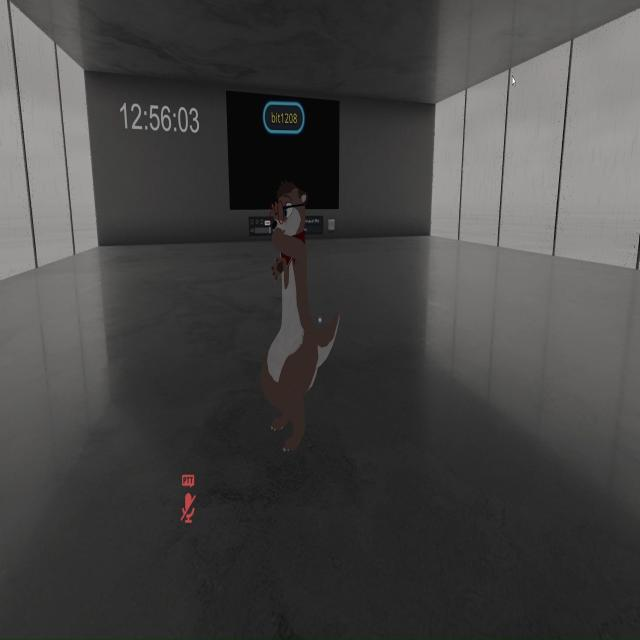human: (256, 172, 342, 466)
